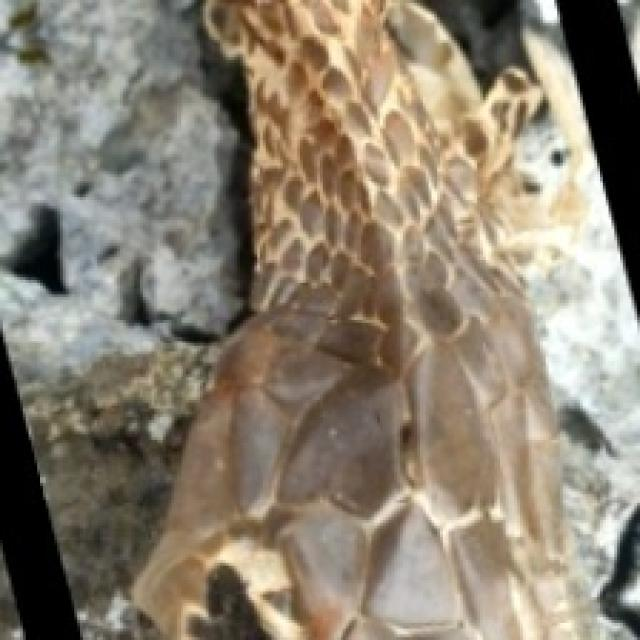philippine cobra: (134, 0, 594, 637)
